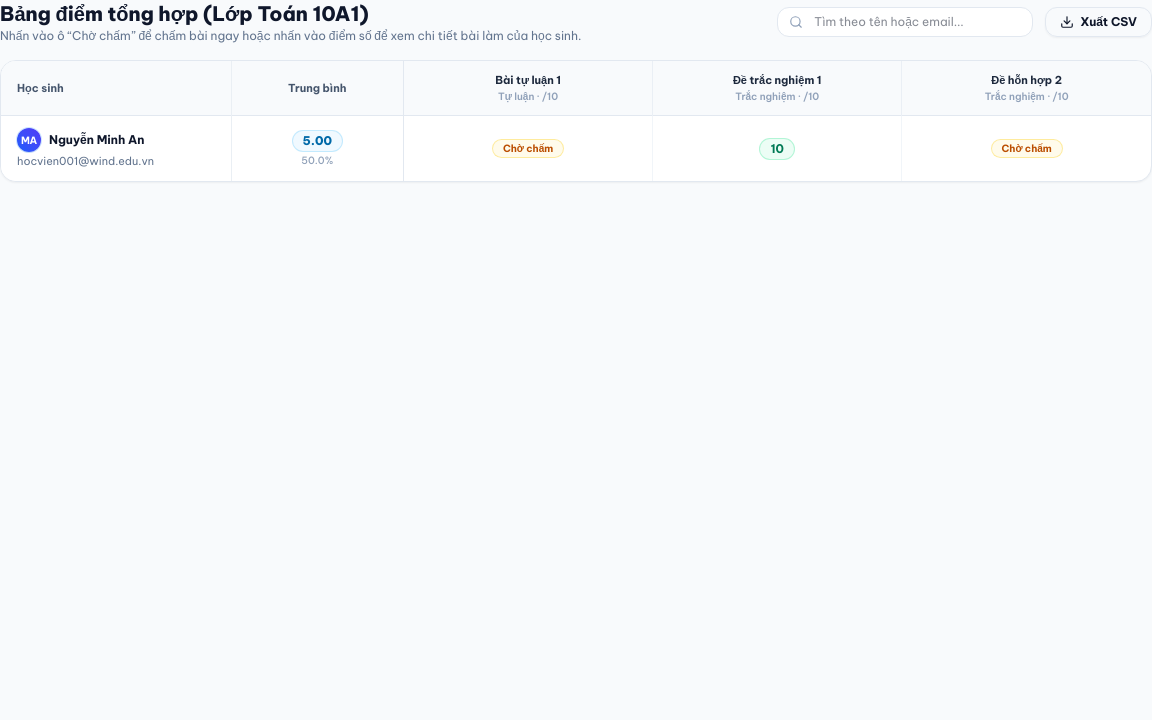
Test case: Bảng điểm tương tác giảng viên, bảng điểm chỉ xem học sinh và cài đặt lớp học › nhấn Chờ chấm ở bài tự luận chuyển tới màn hình chấm bài, nhấn điểm ở đề thi mở modal xem chi tiết và chấm bài chờ chấm
Later steps or results of the test are not shown.
# Nhấn Chờ chấm bài tự luận → điều hướng thẳng màn hình chấm bài của học sinh đó
Click the button with aria-label "Chấm bài Bài tự luận 1 của Nguyễn Minh An" at coordinates (528, 149), box [493,140,563,157]
# Nhấn điểm số 10 ở đề thi đã chấm → mở modal Chi tiết bài làm (không có nút Lưu điểm)
Click the button named "Xem chi tiết Đề trắc nghiệm 1 của Nguyễn Minh An" at coordinates (777, 149), box [759,138,795,160]
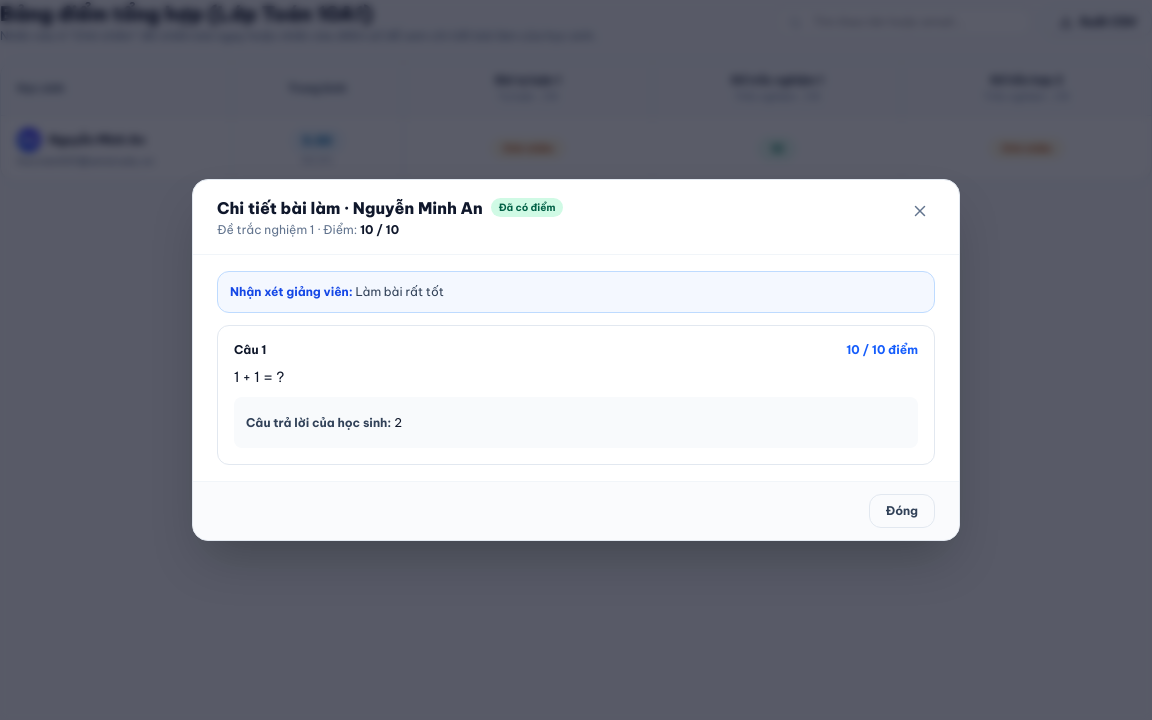
Expected: the button "Lưu điểm & Công bố" is not shown
Now the heading "Chi tiết bài làm · Nguyễn Minh An" is shown, box [217,196,483,220]
Now the text "Làm bài rất tốt" is shown, box [356,284,444,298]
Click the button named "Đóng chi tiết bài làm" at coordinates (920, 210), box [905,196,935,226]
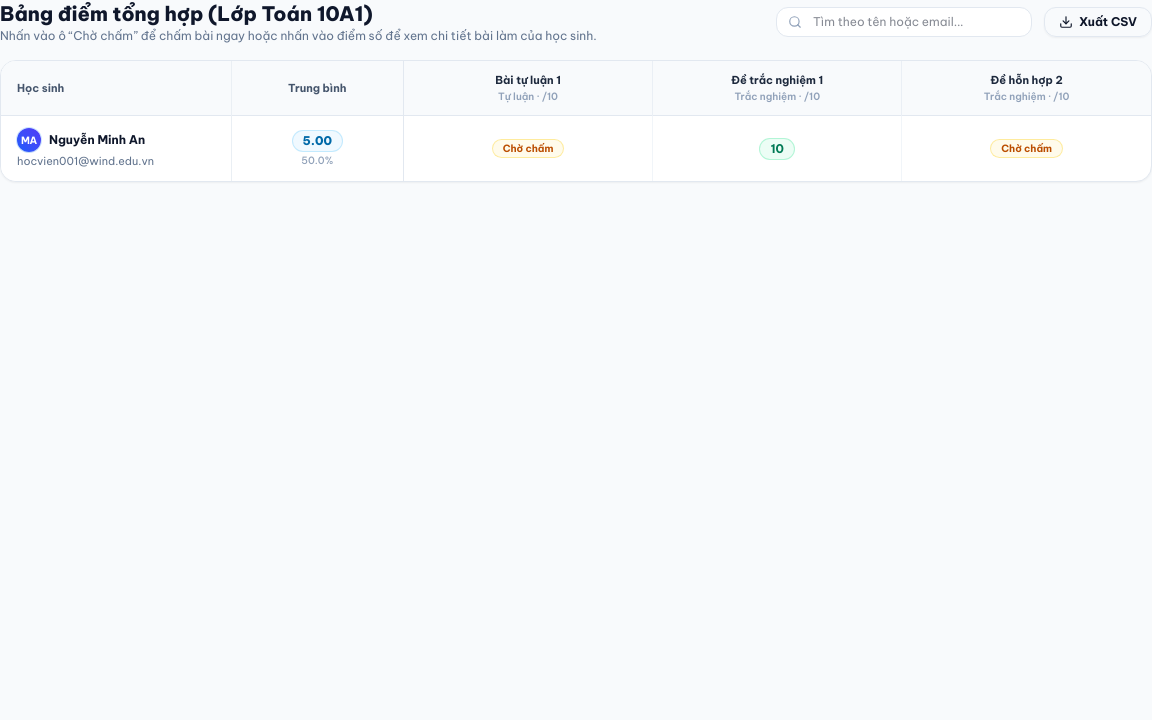
# Nhấn Chờ chấm ở đề thi hỗn hợp → mở modal Chấm bài và lưu điểm tự luận
Click the button with aria-label "Chấm bài Đề hỗn hợp 2 của Nguyễn Minh An" at coordinates (1027, 149), box [991,140,1062,157]
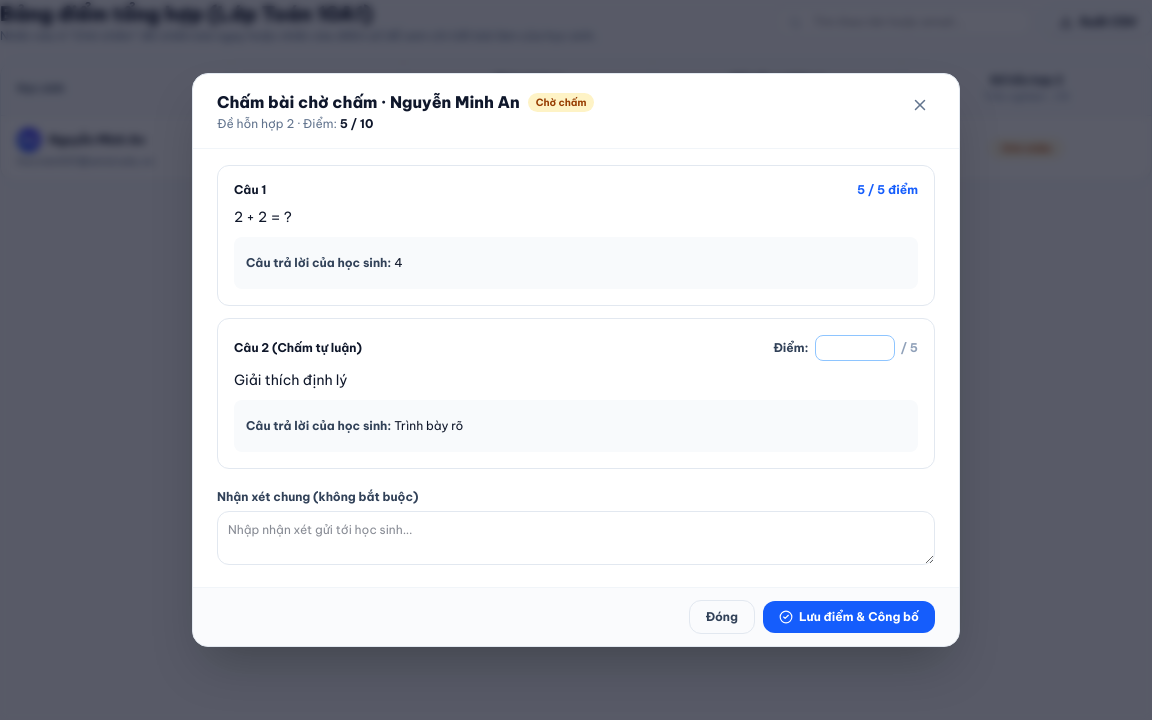
Now the heading "Chấm bài chờ chấm · Nguyễn Minh An" is shown, box [217,90,520,114]
